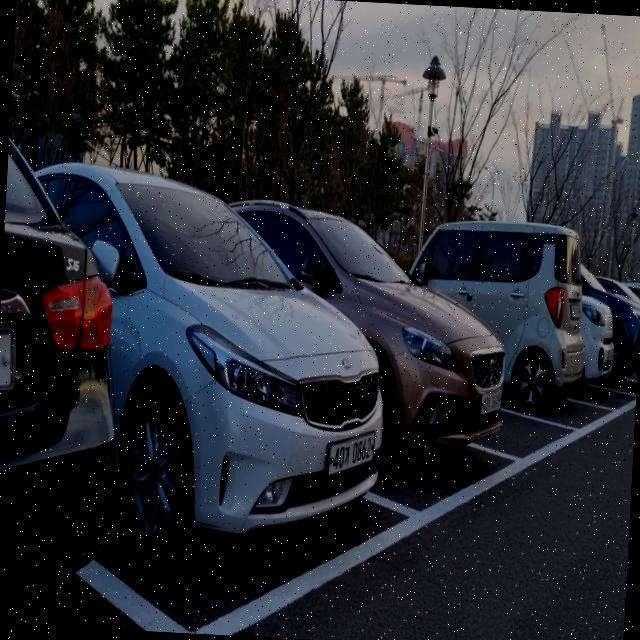empty: (496, 364, 584, 474)
occupied: (68, 224, 406, 636), (337, 266, 536, 542)
